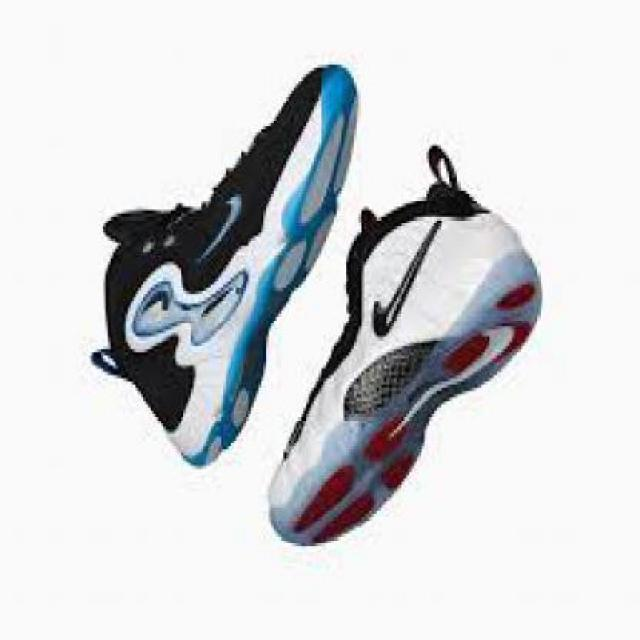Nike: (367, 216, 445, 336), (193, 191, 244, 262)
